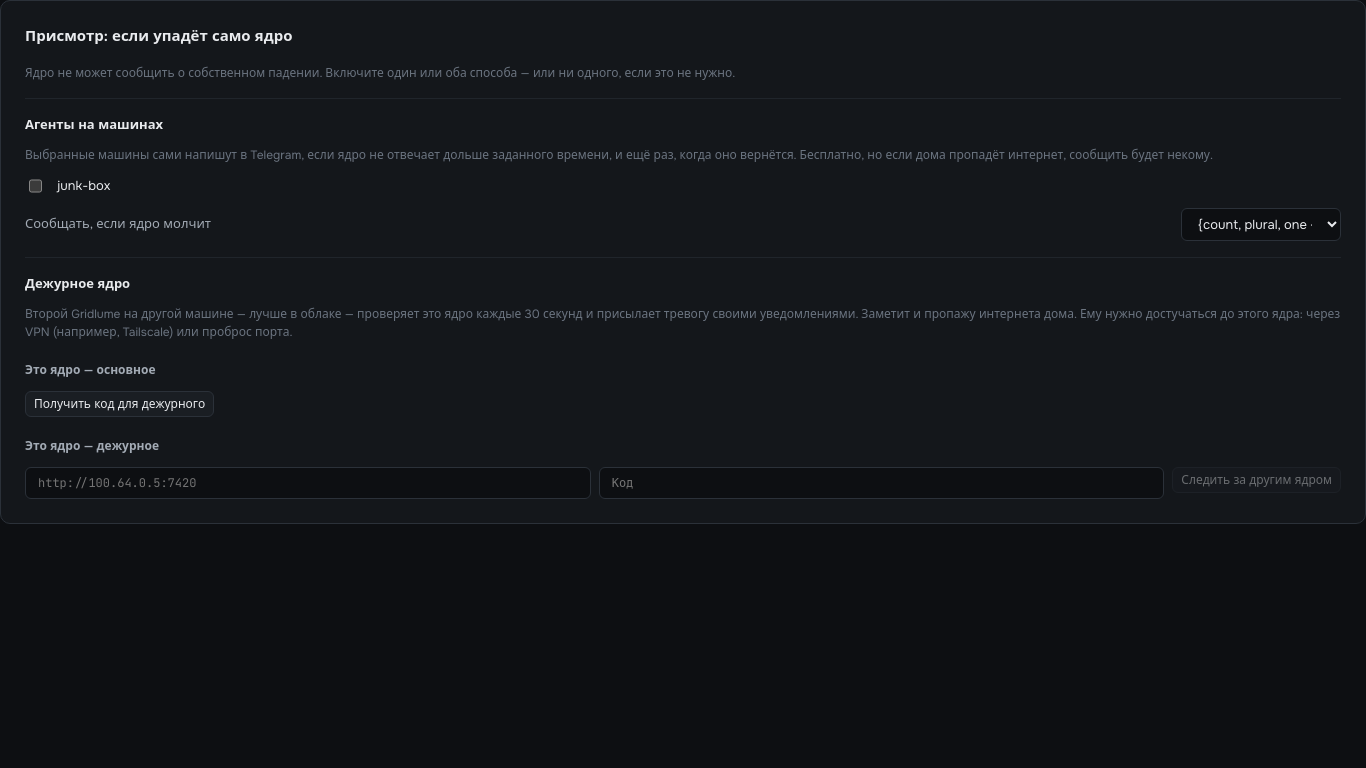
lets the owner choose the machines that watch the core
The image size is (1366, 768).
Click the checkbox labelled "junk-box". click: coordinates (36, 186)
box: [29,179,42,192]
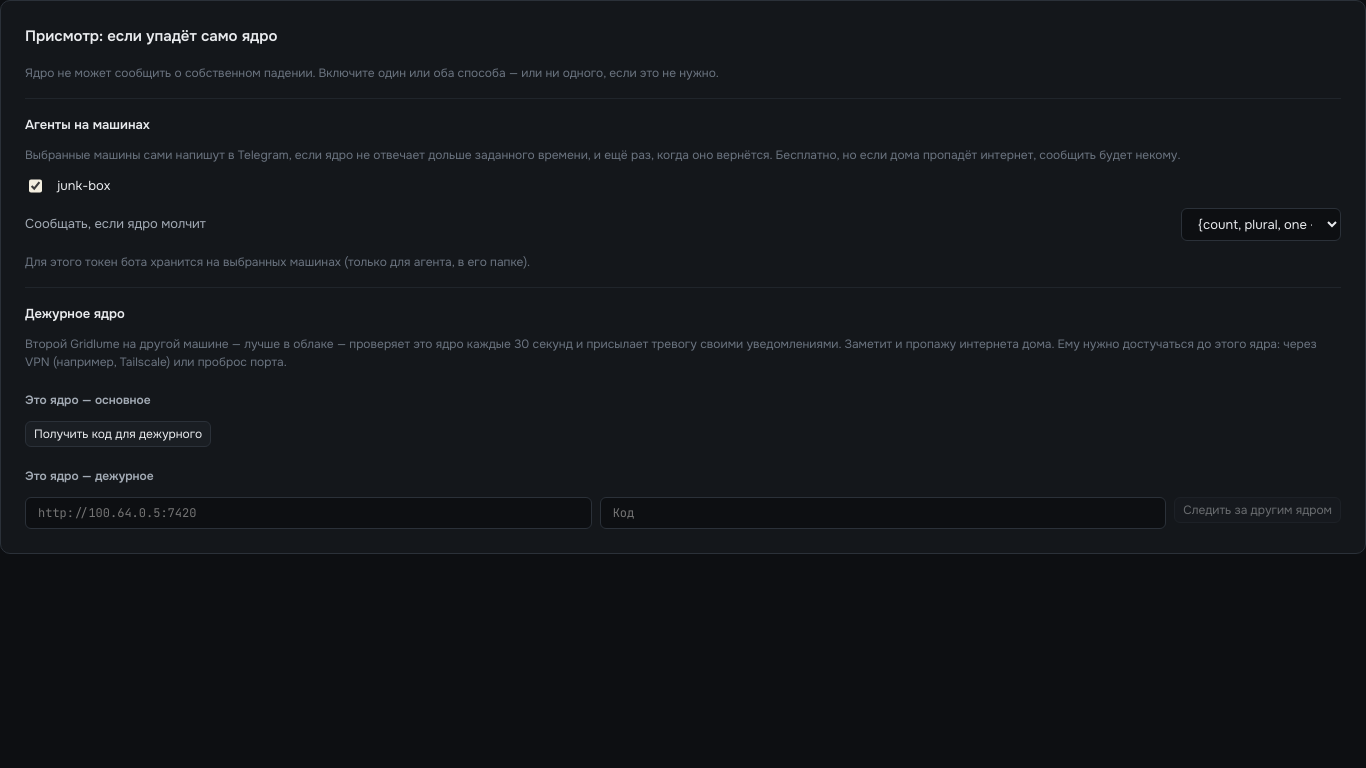
Now the text "токен бота хранится на выбранных машинах" is shown, box [25,254,530,270]
